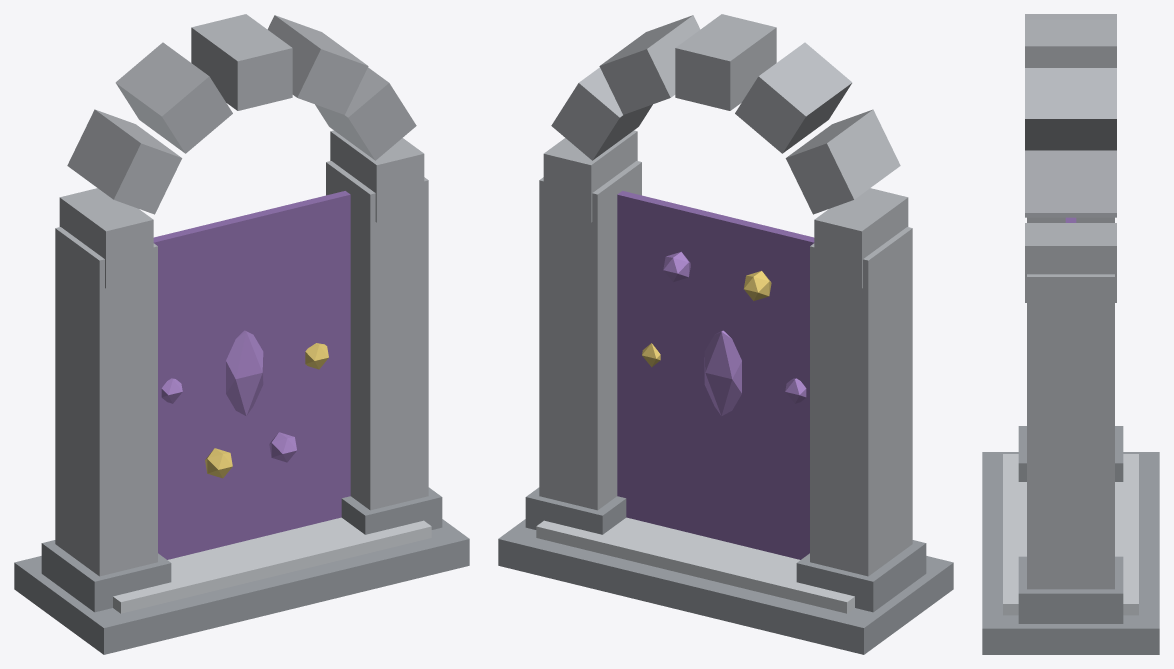
The model's file is animprop_portal_04.glb.
The picture shows the model from 3 angles, left to right: view 1: azimuth 30°, elevation 25°; view 2: azimuth 150°, elevation 25°; view 3: azimuth 270°, elevation 25°; orthographic projection.
Visible parts, largest first — view 1: animprop; view 2: animprop; view 3: animprop.
Part boxes in pixels (x1,y1,x2,y2): animprop: (14,14,469,654); animprop: (498,14,953,654); animprop: (982,14,1159,654).
Bounding box in the file's own units: 2 × 2.82 × 0.85.
